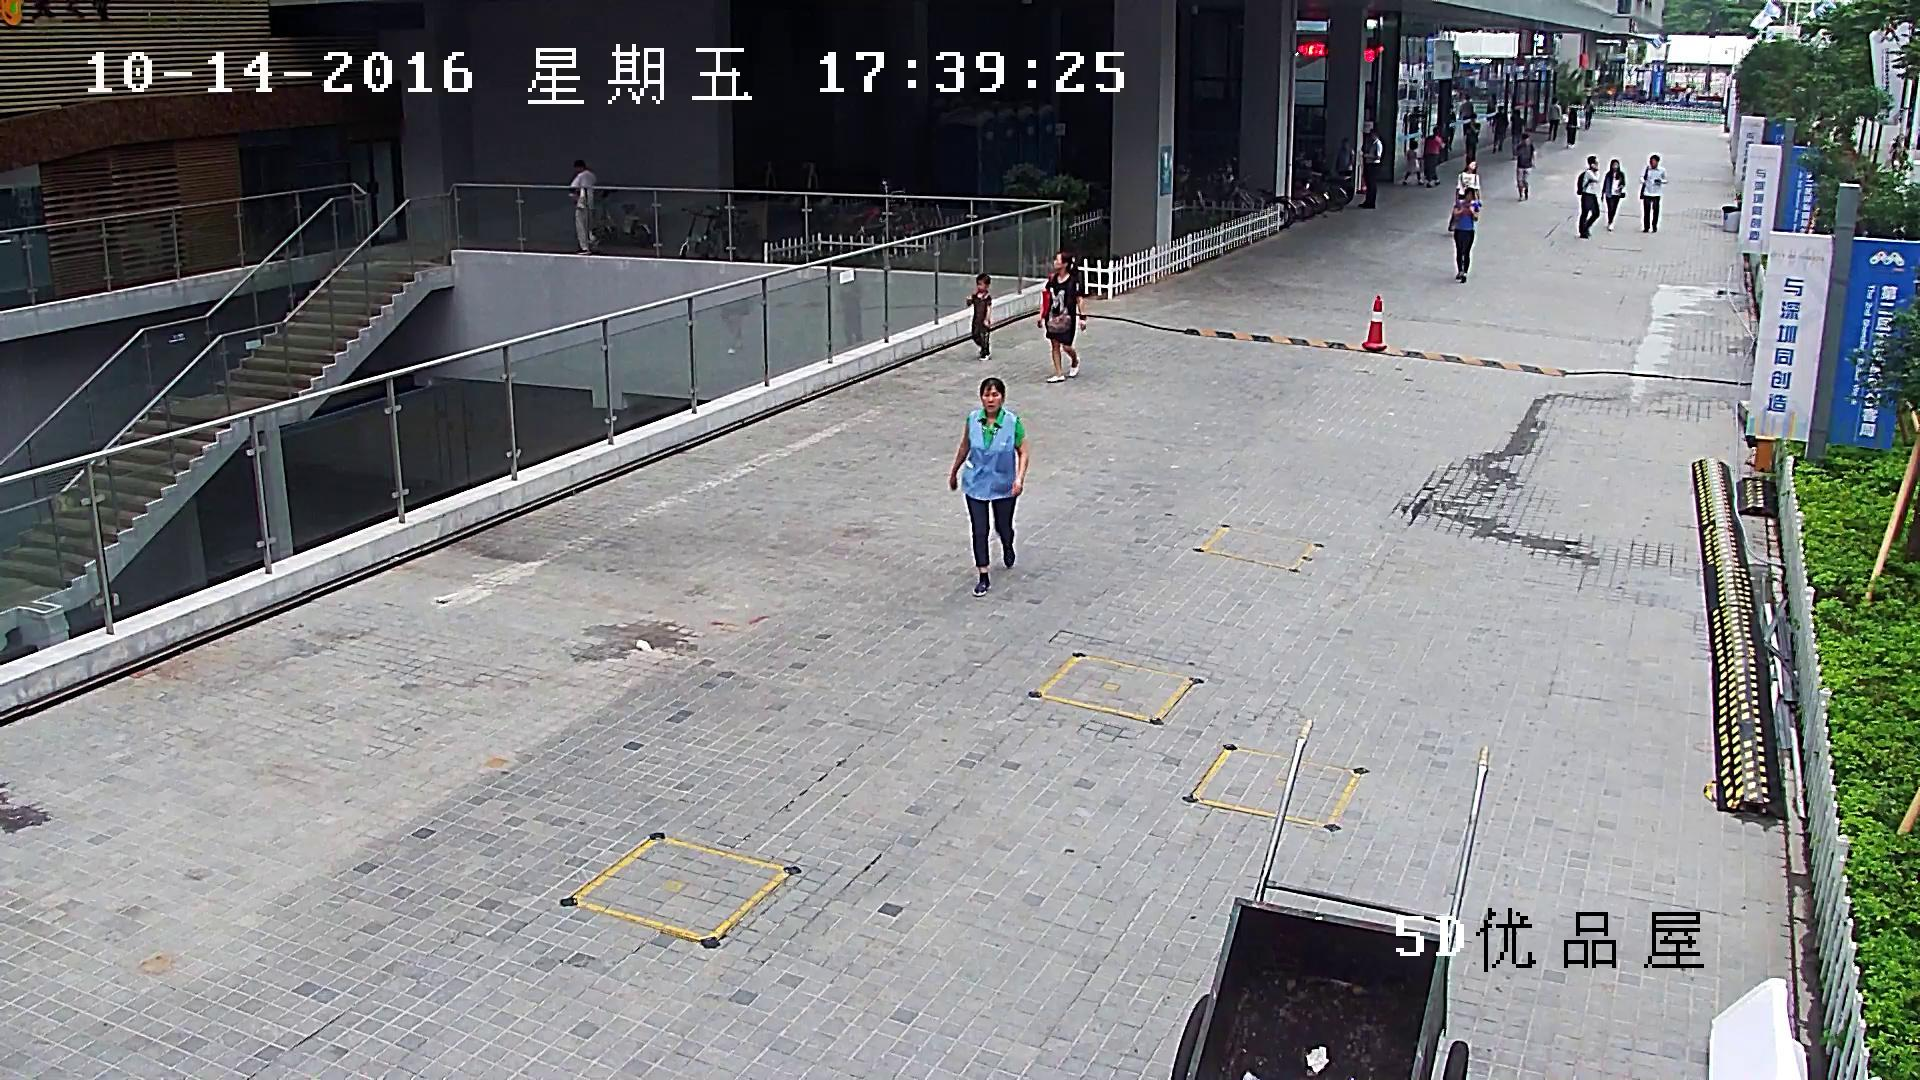person: (948, 378, 1029, 596), (1037, 251, 1085, 382), (1448, 187, 1479, 282), (568, 159, 599, 254), (967, 273, 991, 361), (1639, 154, 1666, 232), (1577, 155, 1600, 238), (1360, 129, 1382, 208), (1601, 158, 1625, 231), (1513, 133, 1536, 201), (1423, 127, 1445, 187), (1456, 159, 1482, 207), (1463, 112, 1480, 171), (1402, 141, 1424, 185), (1334, 136, 1356, 178), (1491, 105, 1507, 153), (1546, 98, 1560, 141), (1511, 111, 1523, 160), (1565, 109, 1578, 149), (1408, 106, 1423, 140), (1459, 93, 1474, 119), (1584, 98, 1595, 130)
